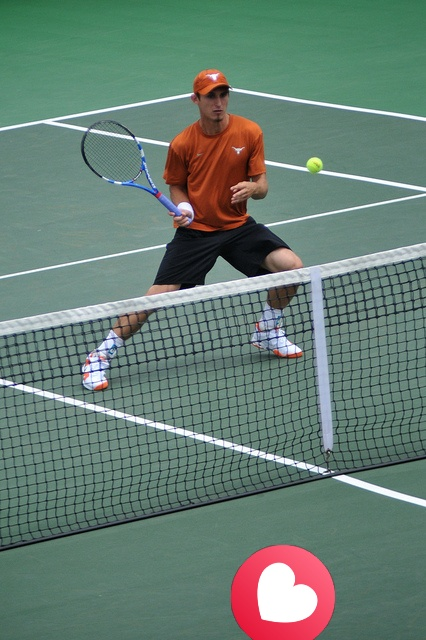love: (231, 545, 335, 640)
